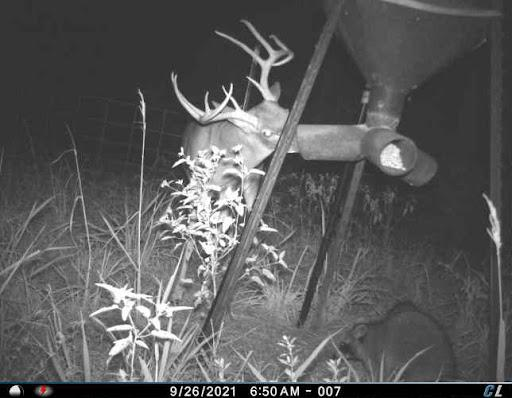Deer: (159, 11, 305, 285)
